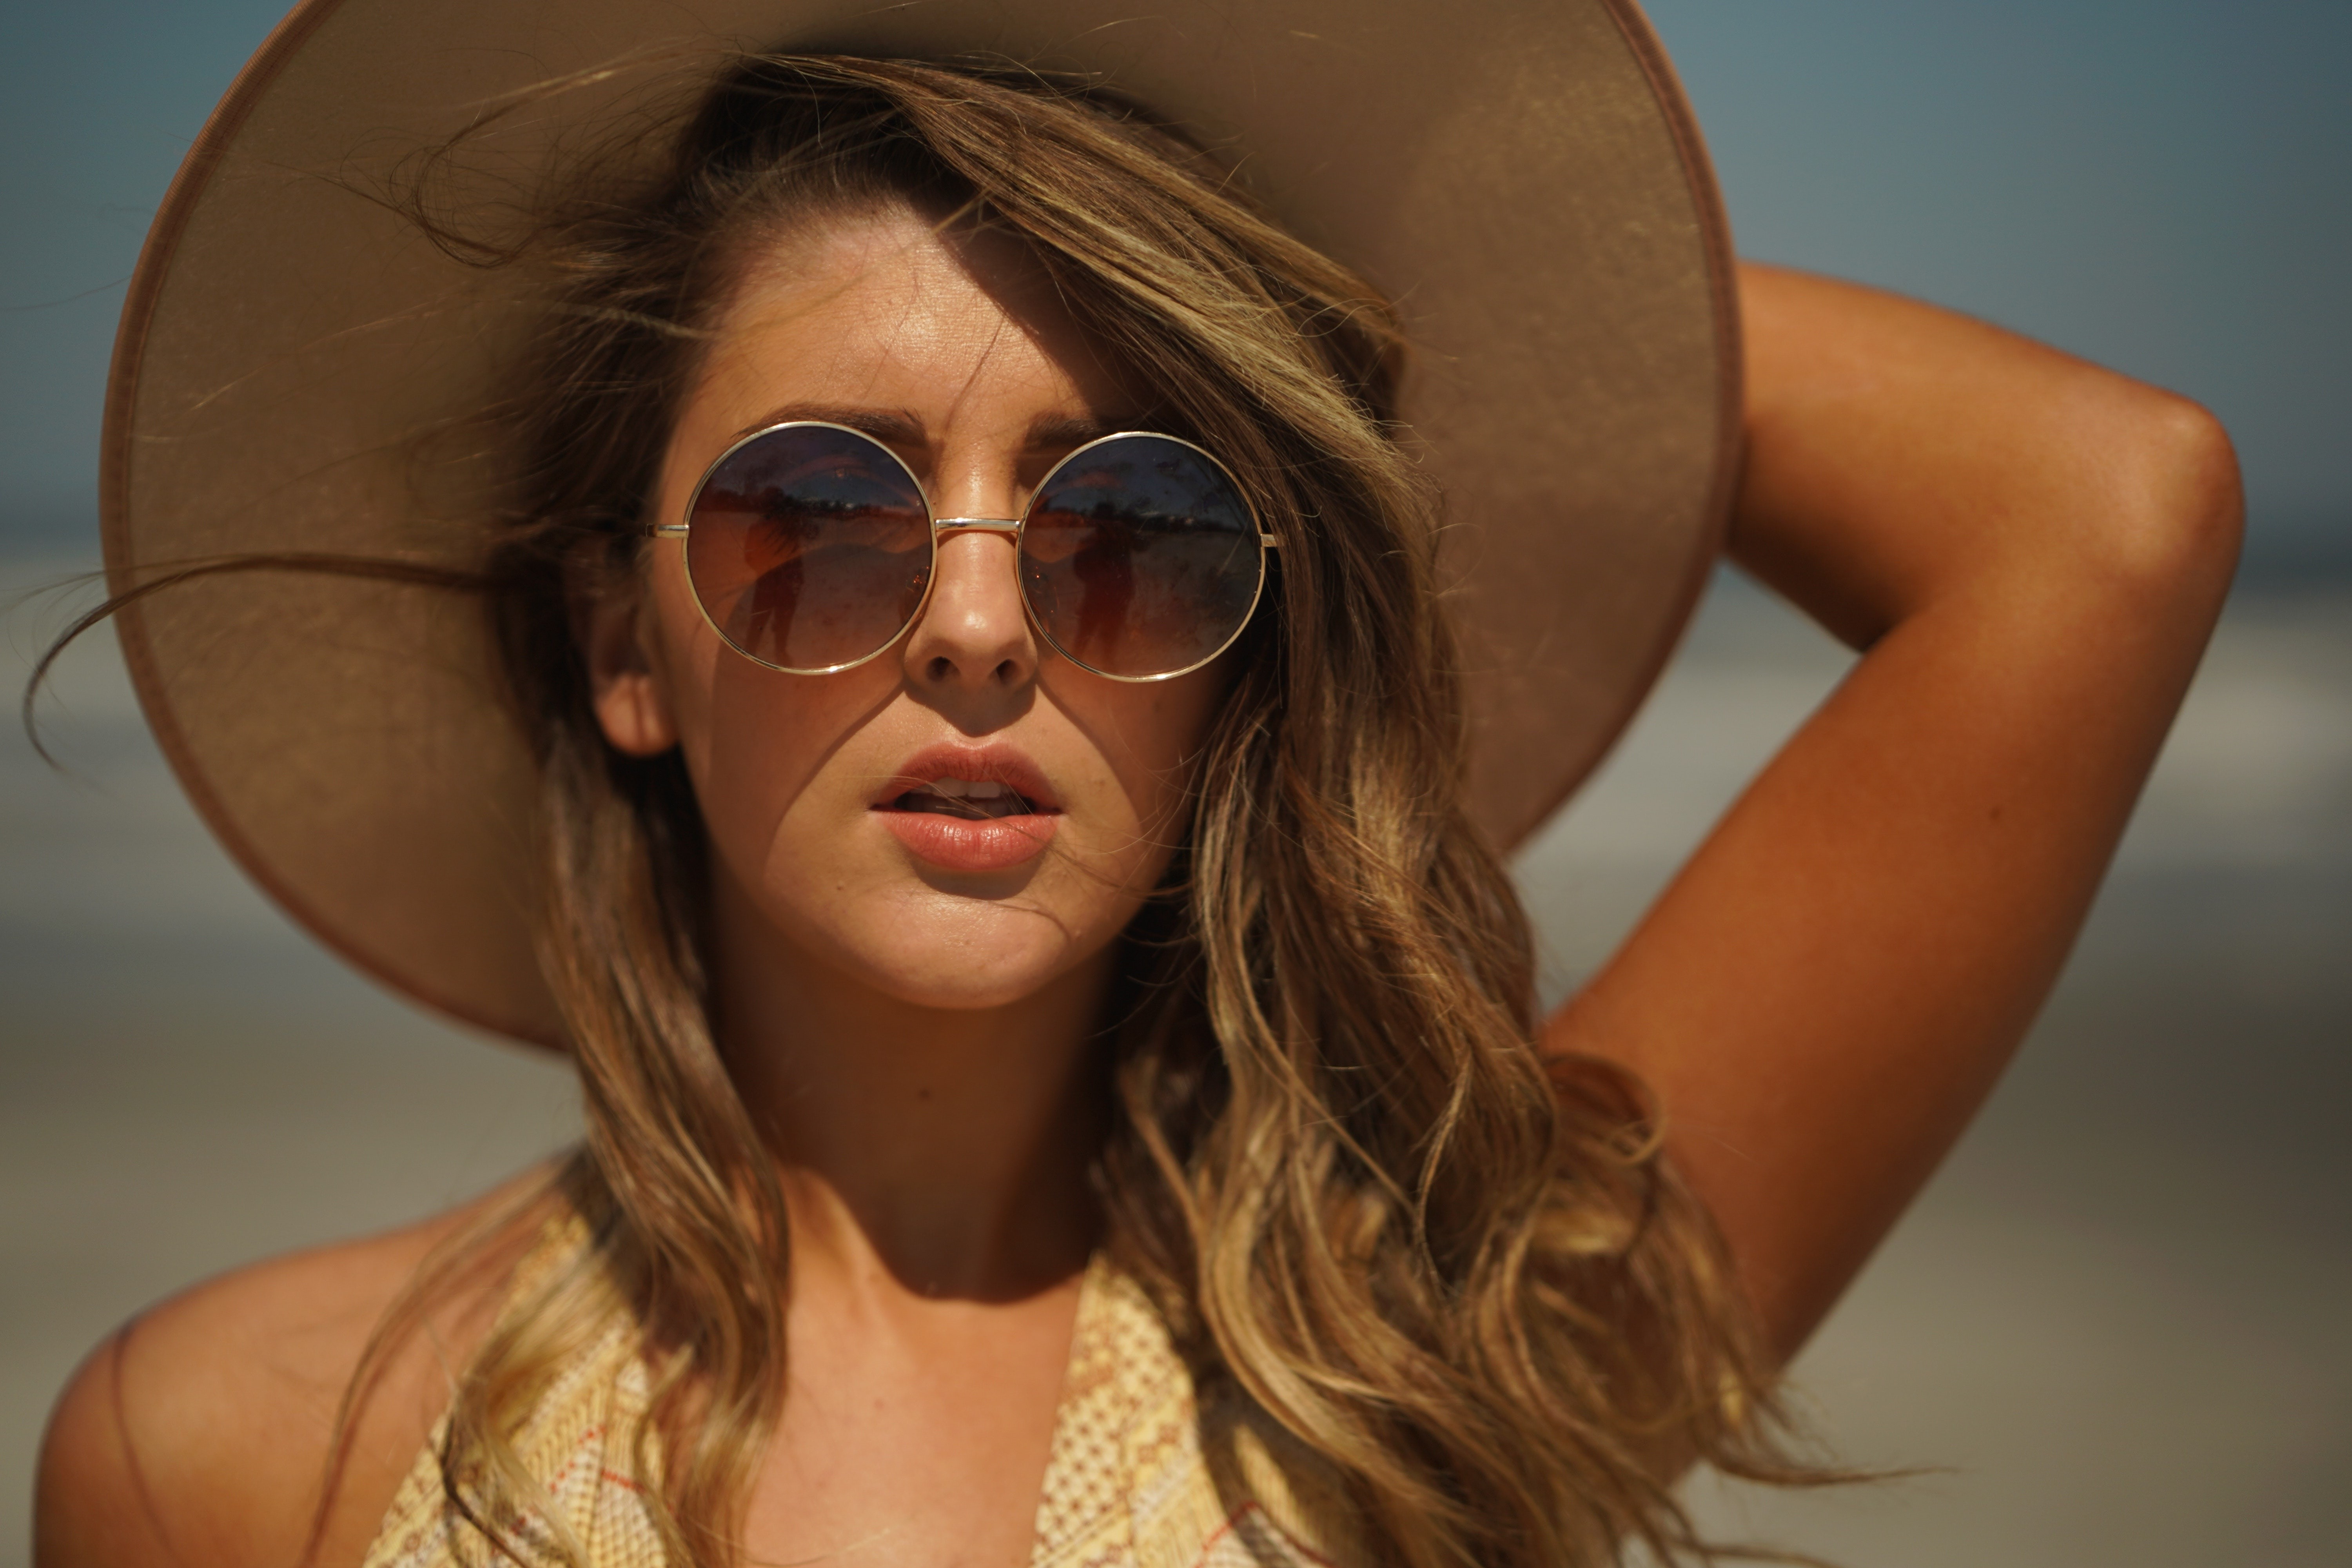face_no_mask: (618, 137, 1279, 1032)
